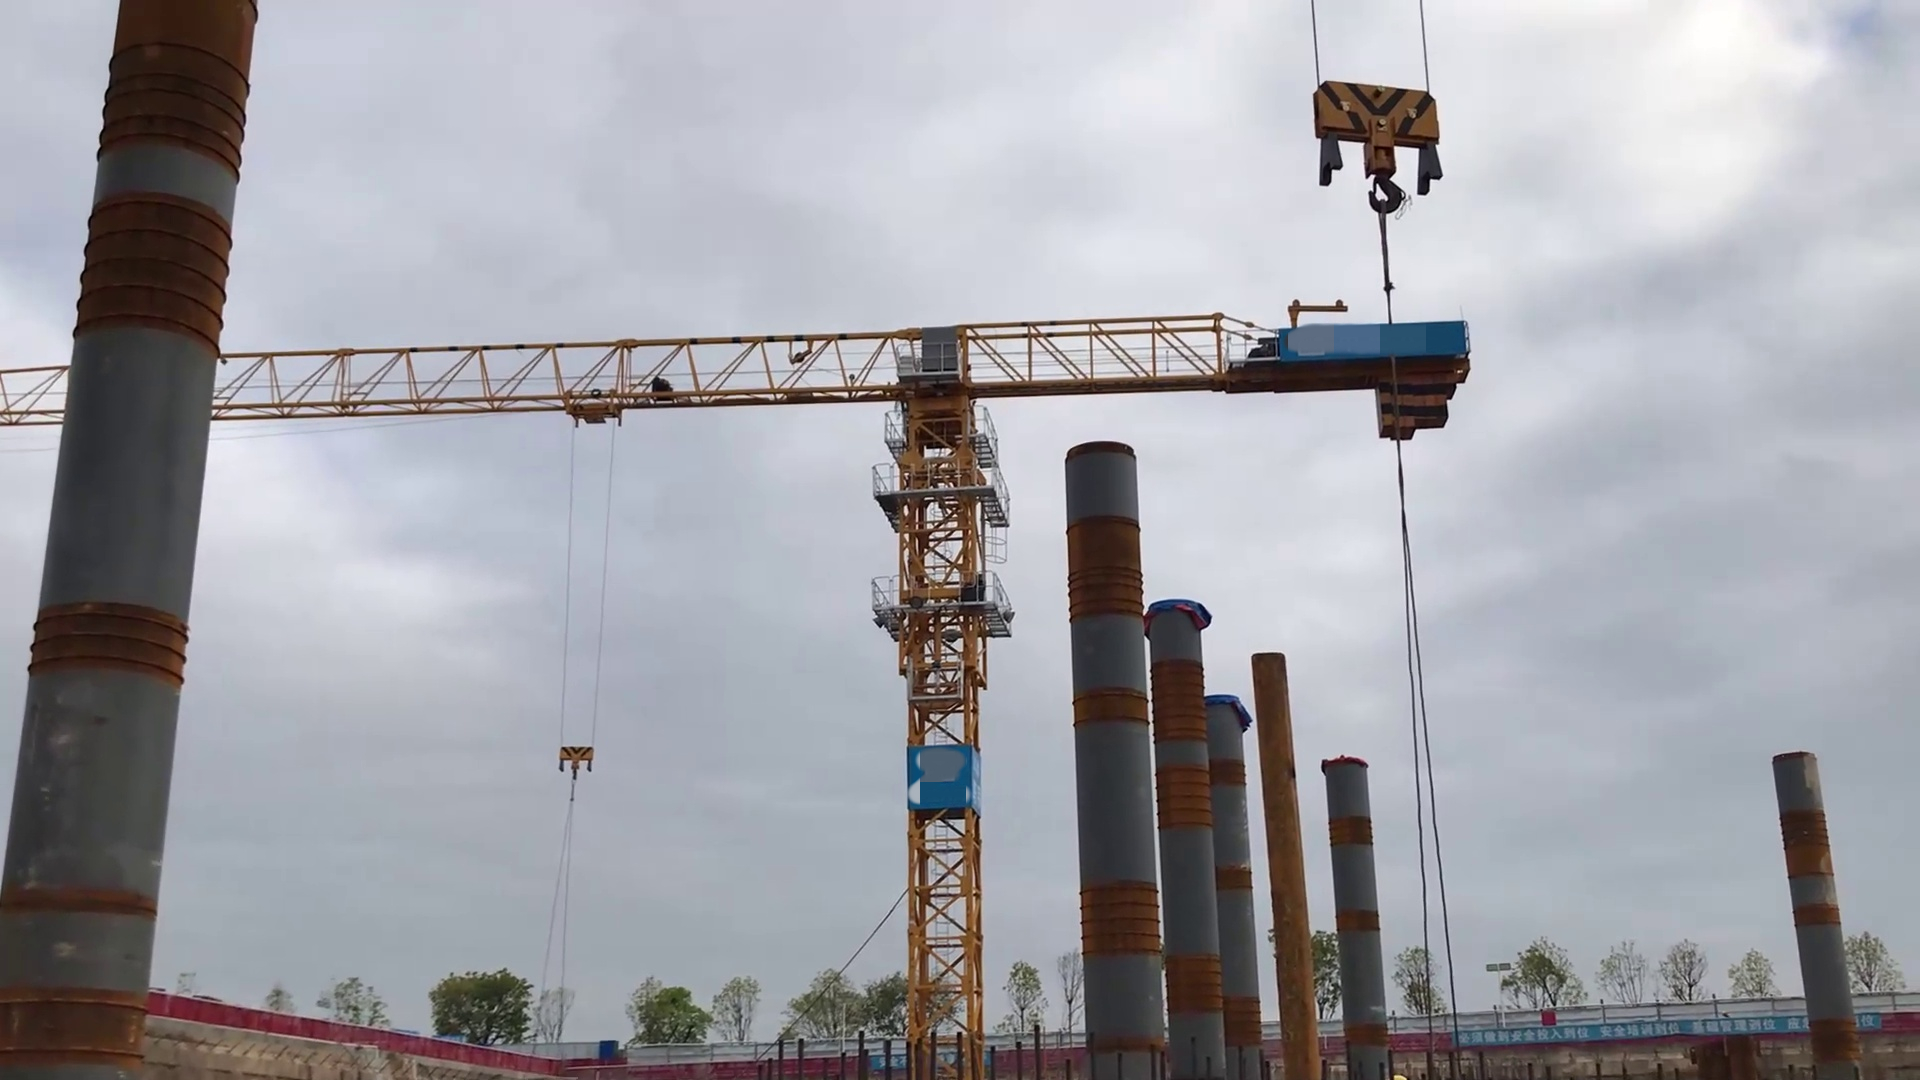hook: (1300, 71, 1455, 222), (555, 741, 597, 785)
slogan: (1453, 1013, 1882, 1044)
